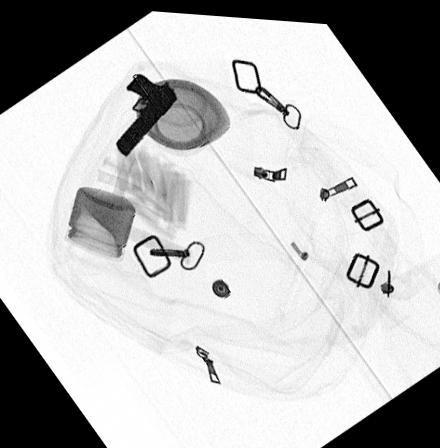Gun: (113, 69, 177, 157)
